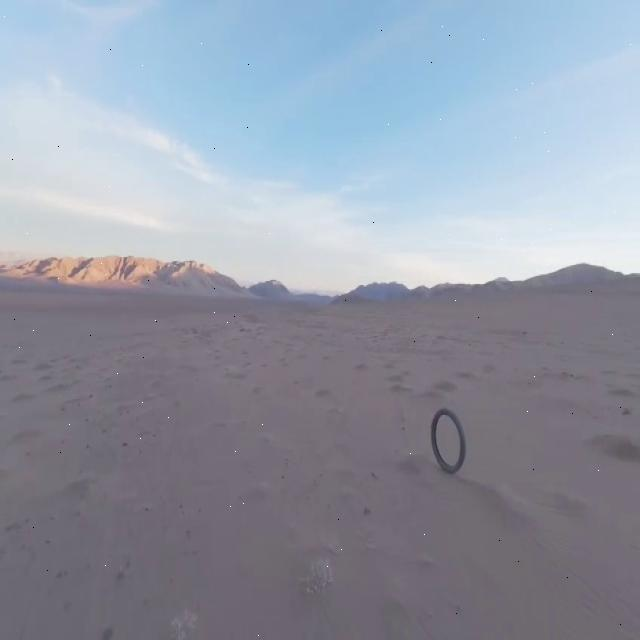Tire: (432, 408, 465, 473)
